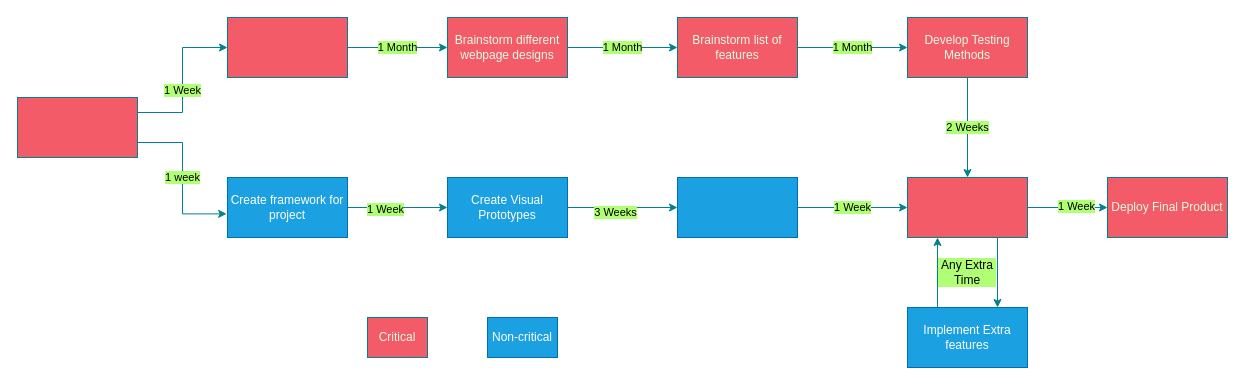
Image size: 1245x385. Some labels were removed from this diagram. The centre of each missing label's shape, as x and y in pixels:
Create To-Do List Web App: pixel 77 127
Decide on frontend and backend: pixel 287 47
Implement key features: pixel 737 207
Test features: pixel 967 207
